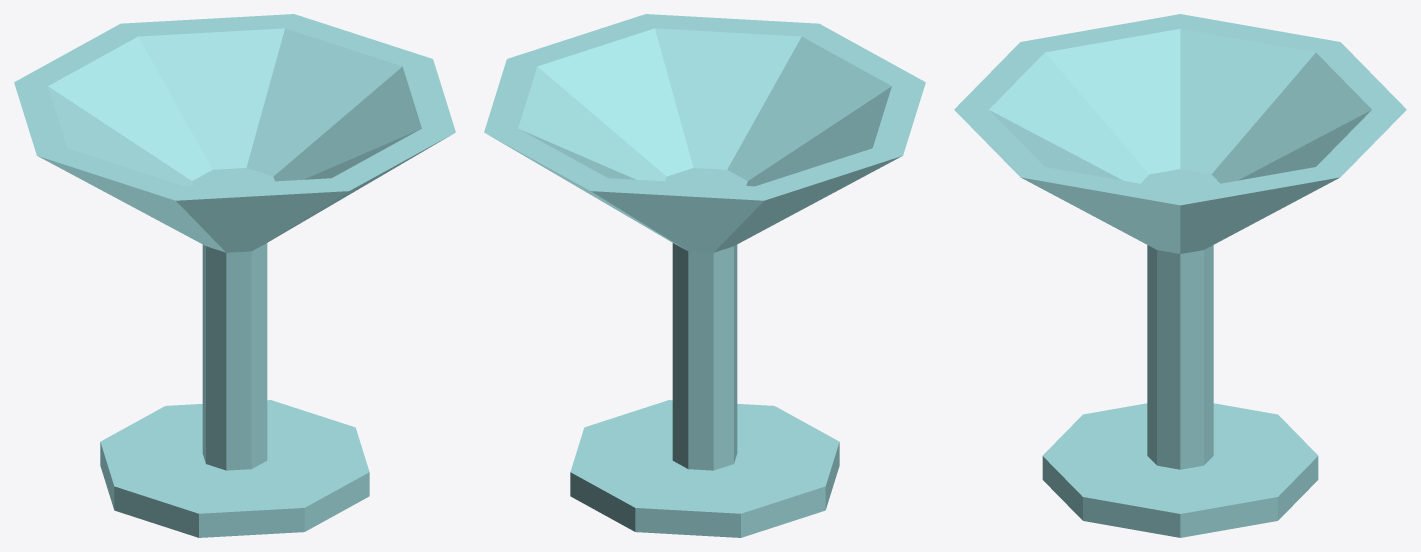
The model's file is pandemonium_martiniGlass.fbx.
3 renders of one model, left to right at view 1: azimuth 30°, elevation 25°; view 2: azimuth 150°, elevation 25°; view 3: azimuth 270°, elevation 25°, orthographic.
Visible parts, largest first — view 1: Cylinder.017; view 2: Cylinder.017; view 3: Cylinder.017.
Boxes of the visible parts, x1,y1,x2,y2 form: Cylinder.017: (14,14,455,537); Cylinder.017: (484,14,925,537); Cylinder.017: (954,14,1406,537).
Size of the model in its own units: 49.72 by 44.82 by 49.72.
